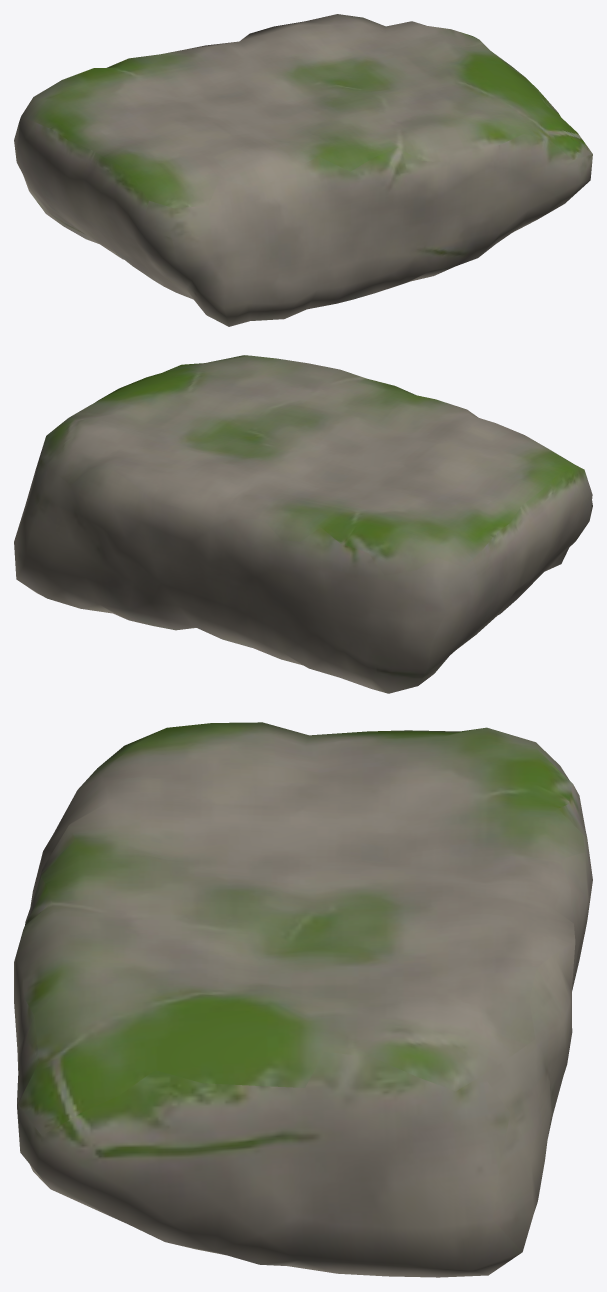
File: rock-slab.glb
The picture shows the model from 3 angles, top to bottom: view 1: azimuth 30°, elevation 25°; view 2: azimuth 150°, elevation 25°; view 3: azimuth 270°, elevation 25°; orthographic projection. The views are drawn at different scales.
Visible parts, largest first — view 1: Rock_Slab; view 2: Rock_Slab; view 3: Rock_Slab.
Part boxes in pixels (x1,y1,x2,y2): Rock_Slab: [14, 14, 592, 326]; Rock_Slab: [14, 355, 592, 693]; Rock_Slab: [14, 722, 592, 1277].
Bounding box in the file's own units: 2.22 × 0.7389 × 1.55.
Materials: 1 (1 with a texture image).
